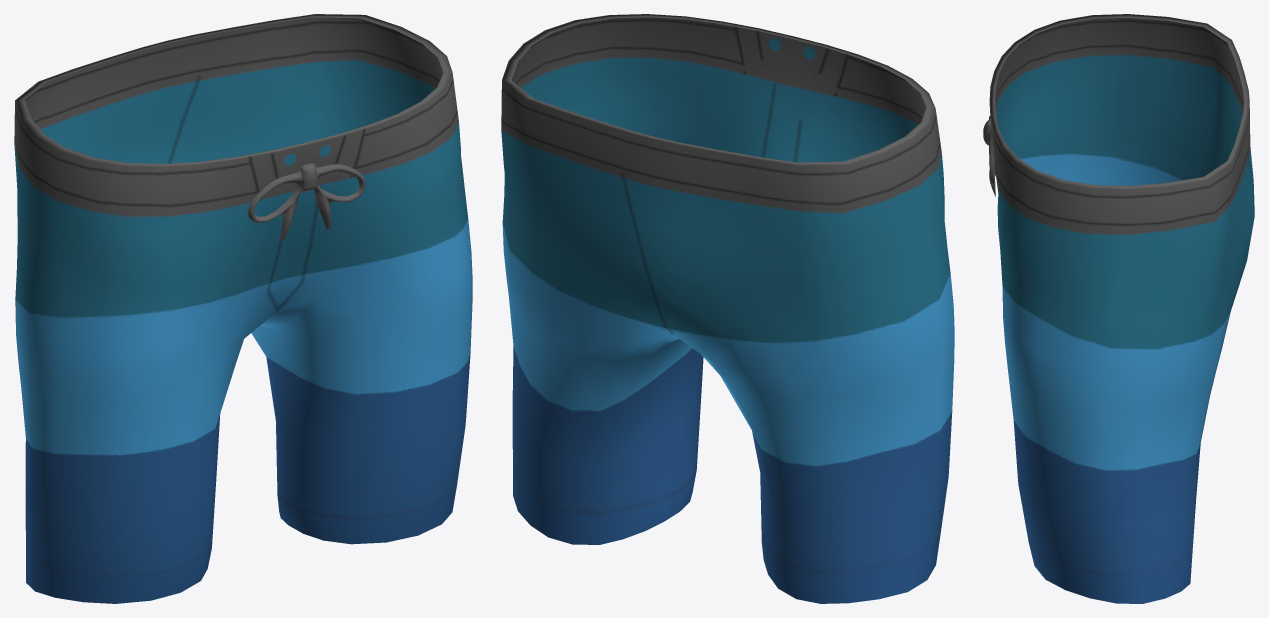
File: lower cloth 01.glb
The picture shows the model from 3 angles, left to right: view 1: azimuth 30°, elevation 25°; view 2: azimuth 150°, elevation 25°; view 3: azimuth 270°, elevation 25°; orthographic projection. The views are drawn at different scales.
Parts seen in each view (by area): view 1: lower_cloth_01; view 2: lower_cloth_01; view 3: lower_cloth_01.
Part boxes in pixels (x1,y1,x2,y2): lower_cloth_01: [14, 14, 472, 603]; lower_cloth_01: [501, 14, 954, 603]; lower_cloth_01: [983, 14, 1254, 603].
Size of the model in its own units: 0.00485 by 0.00498 by 0.00291.
Materials: 1 (1 with a texture image).
